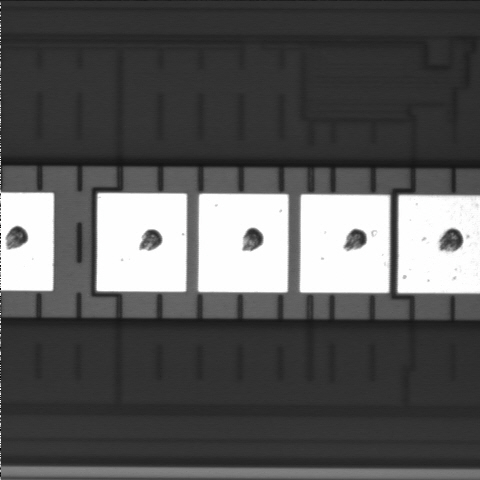pad: (97, 193, 187, 292), (198, 194, 288, 292), (300, 195, 390, 293)
